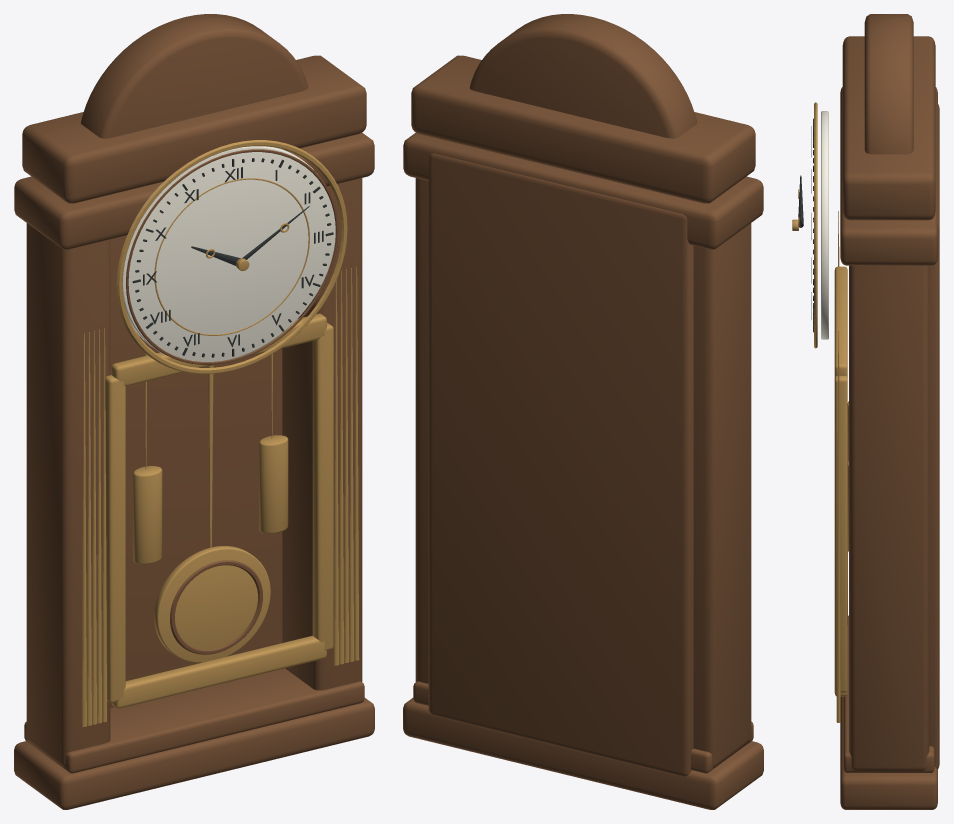
Rendered from pendulum-wall-clock.glb.
The picture shows the model from 3 angles, left to right: view 1: azimuth 30°, elevation 25°; view 2: azimuth 150°, elevation 25°; view 3: azimuth 270°, elevation 25°; orthographic projection. The views are drawn at different scales.
Parts seen in each view (by area): view 1: catalog_surface_RealismUV; view 2: catalog_surface_RealismUV; view 3: catalog_surface_RealismUV.
Part boxes in pixels (<box>): catalog_surface_RealismUV: <box>14,14,374,809</box>; catalog_surface_RealismUV: <box>403,14,763,809</box>; catalog_surface_RealismUV: <box>792,14,939,809</box>.
Size of the model in its own units: 0.36 by 0.8 by 0.15.
